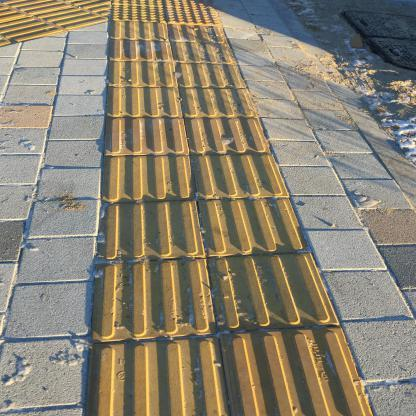podotacti: (82, 1, 380, 416), (0, 0, 112, 53)
